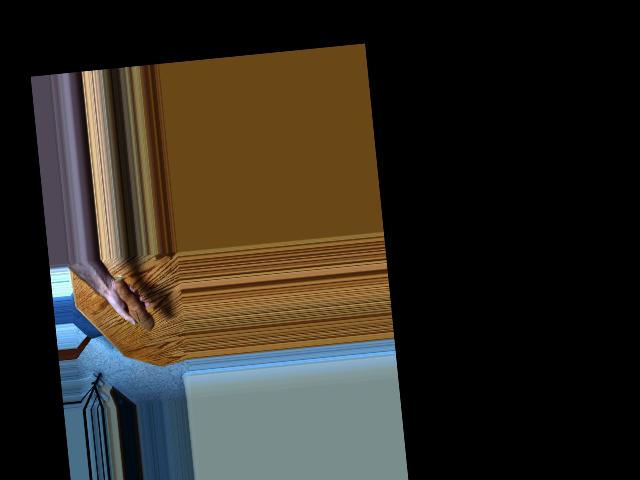sweet_potato: (109, 270, 155, 335)
